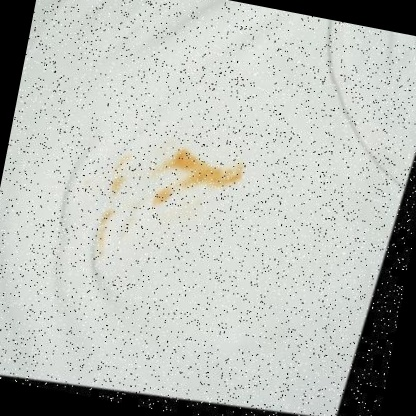kimchi: (161, 148, 250, 199), (86, 206, 116, 263), (105, 148, 132, 205), (143, 179, 174, 208)
